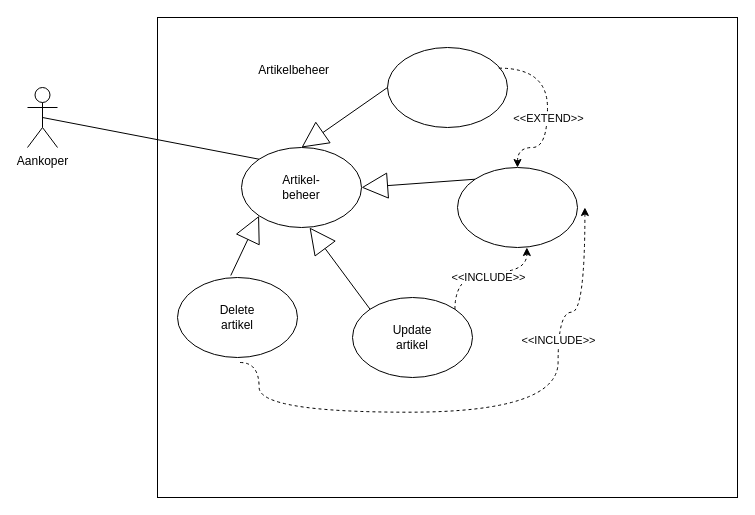
The diagram is 755 pixels wide and 515 high, and some of its shapes have lost their labels. The shapes that lost their labels are listed below. From the top down, each one's centre as x and y in pixels, then its label:
At [447,87]: "Create artikel".
At [517,207]: "Read artikel".
